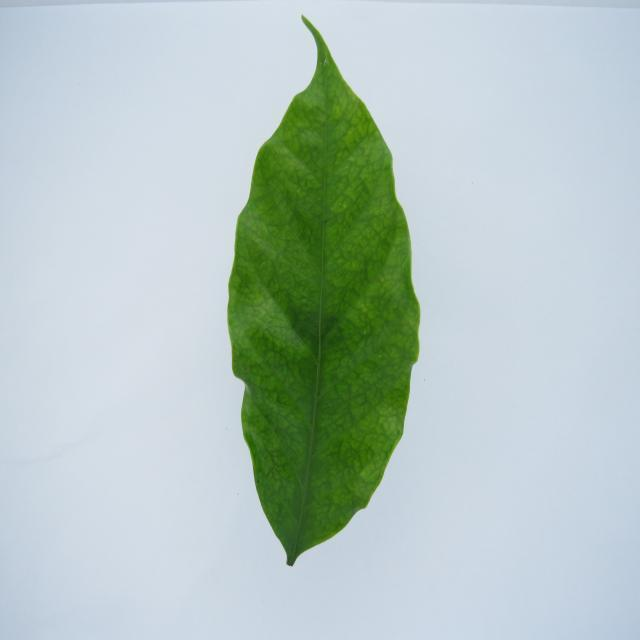DeficienciaNutricional-Hierro: (228, 17, 420, 565)
